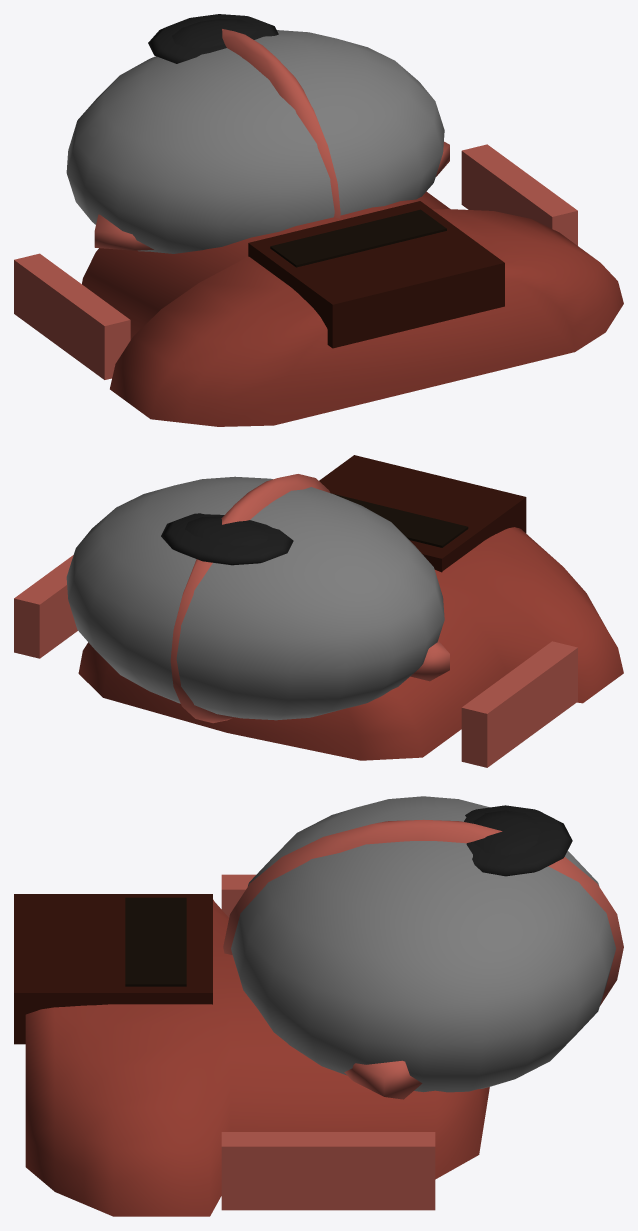
File: newshc-77-f7.glb
The picture shows the model from 3 angles, top to bottom: view 1: azimuth 30°, elevation 25°; view 2: azimuth 150°, elevation 25°; view 3: azimuth 270°, elevation 25°; orthographic projection. The views are drawn at different scales.
Visible parts, largest first — view 1: newshc-77-f7; view 2: newshc-77-f7; view 3: newshc-77-f7.
Boxes of the visible parts, bbox=[...] form: newshc-77-f7: bbox=[14, 14, 623, 426]; newshc-77-f7: bbox=[14, 455, 623, 767]; newshc-77-f7: bbox=[14, 796, 623, 1216].
Size of the model in its own units: 1.83 by 0.82 by 1.74.
